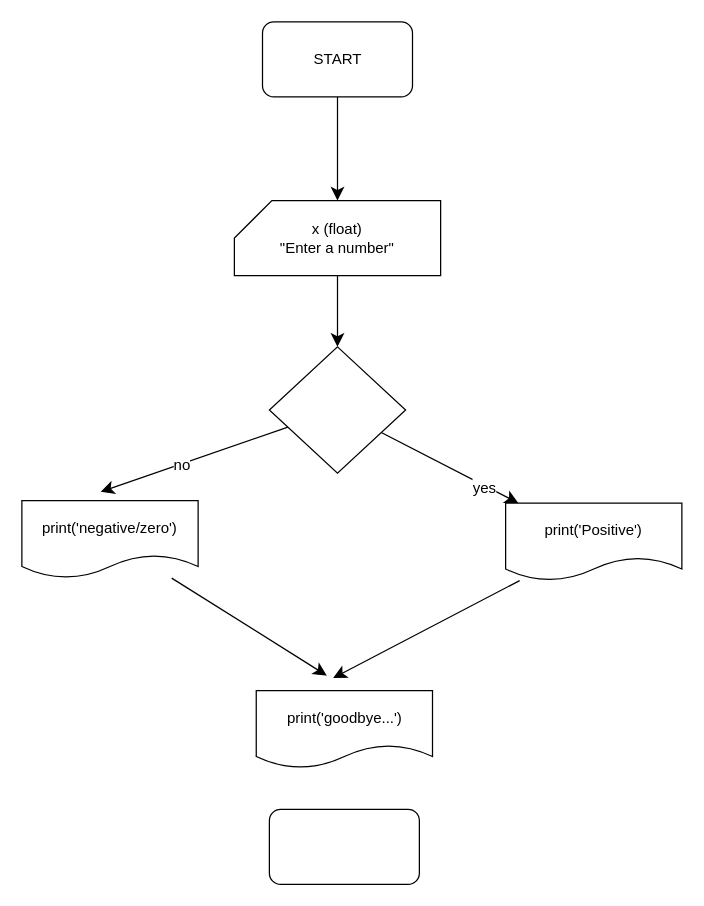
This 704x906 diagram has some shape labels left out. Each missing label, with the box of its shape:
STOP: (268, 808, 419, 884)
x > 0: (268, 346, 406, 473)
